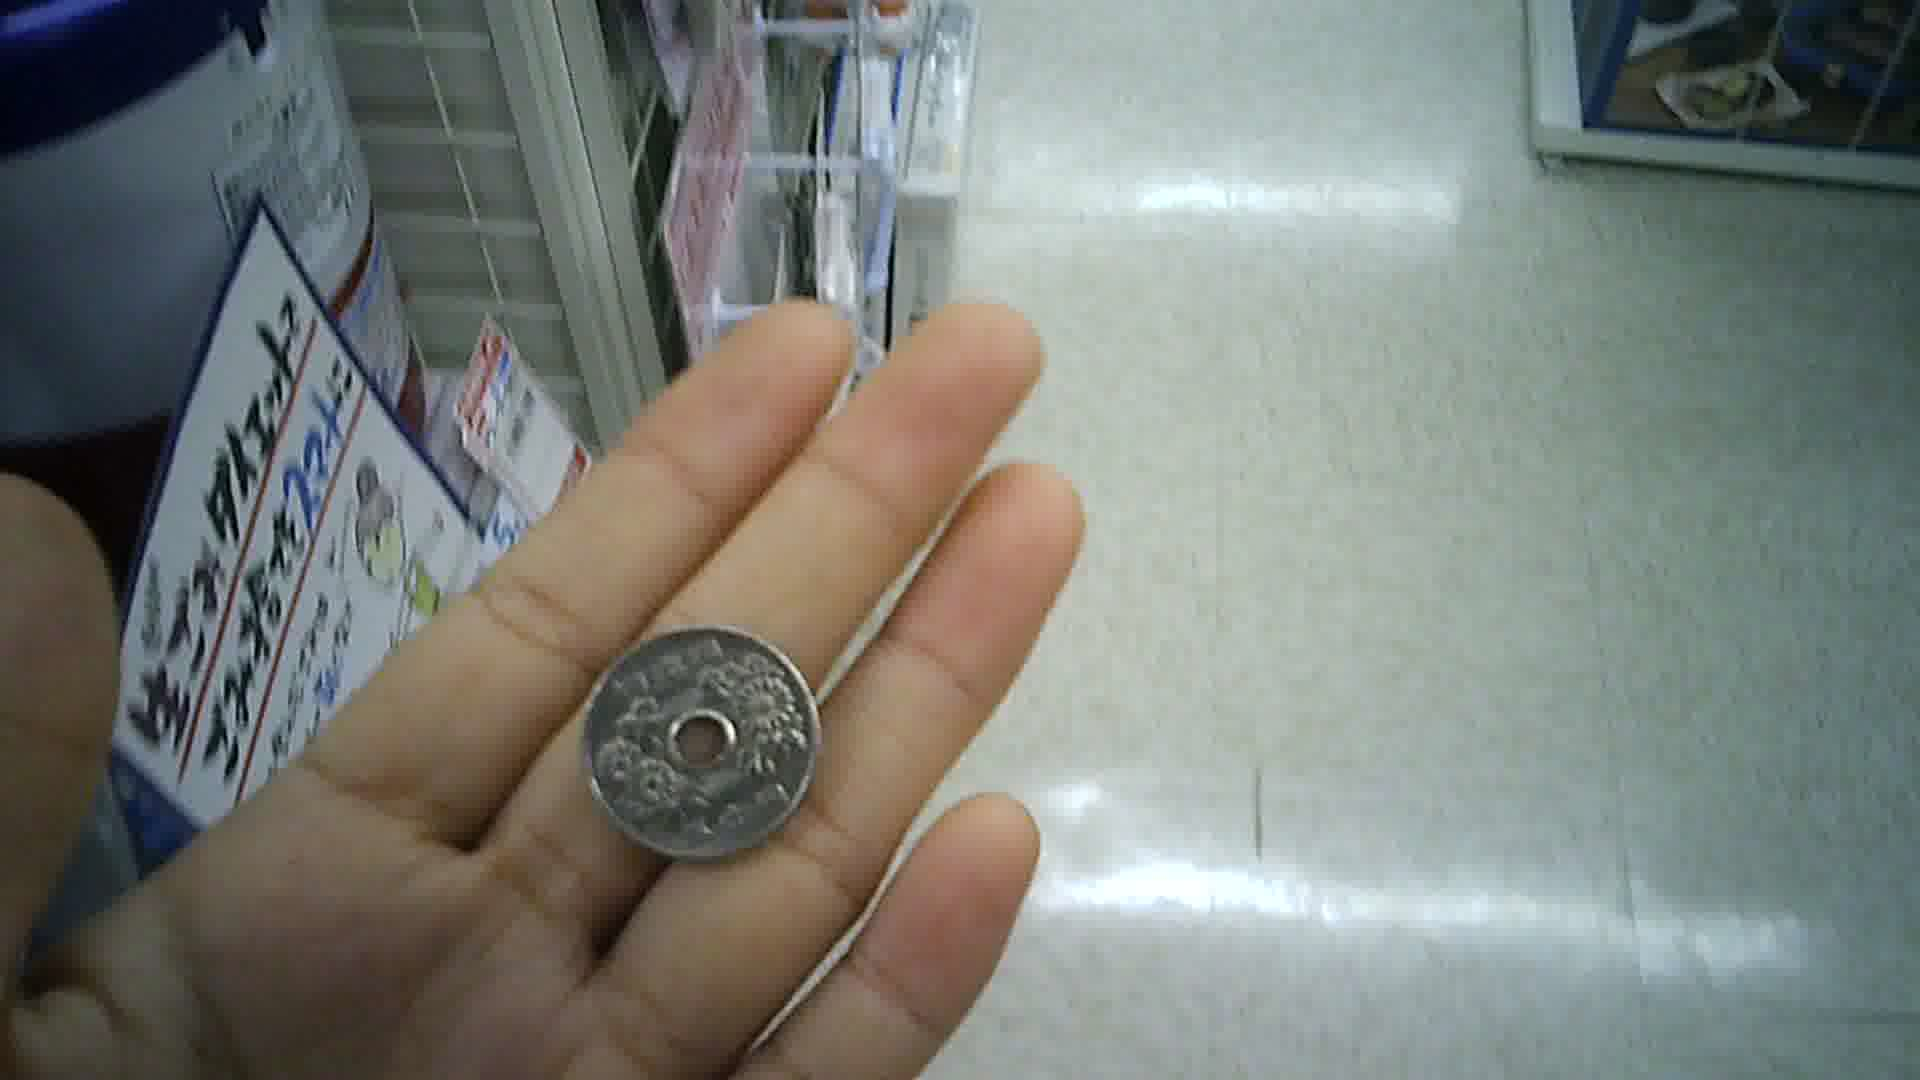50 Yen: (578, 625, 823, 862)
